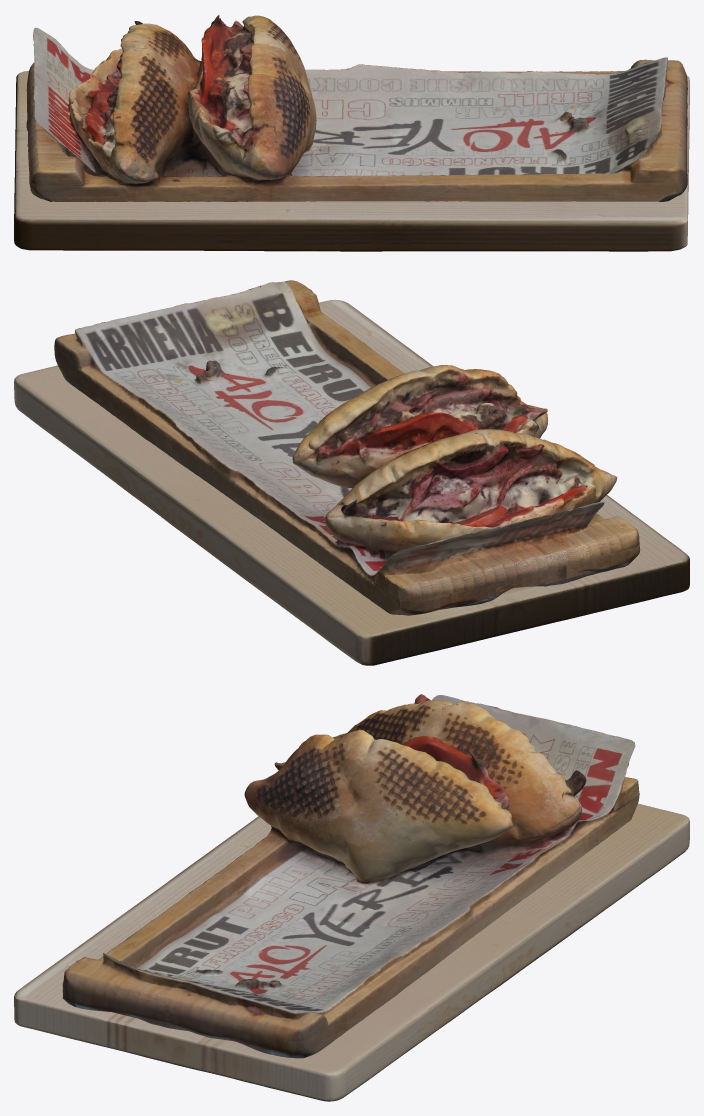
Rendered from sandvich.goje.glb.
The picture shows the model from 3 angles, top to bottom: view 1: azimuth 30°, elevation 25°; view 2: azimuth 150°, elevation 25°; view 3: azimuth 270°, elevation 25°; orthographic projection. The views are drawn at different scales.
Parts seen in each view (by area): view 1: /Root/Scenes/Scene/Object_37/Object_38/Submesh_0, /Root/Scenes/Scene/Object_37/Object_39/Object_40/Submesh_0; view 2: /Root/Scenes/Scene/Object_37/Object_38/Submesh_0, /Root/Scenes/Scene/Object_37/Object_39/Object_40/Submesh_0; view 3: /Root/Scenes/Scene/Object_37/Object_38/Submesh_0, /Root/Scenes/Scene/Object_37/Object_39/Object_40/Submesh_0.
Boxes of the visible parts, box(x1,y1,x2,y2) form: /Root/Scenes/Scene/Object_37/Object_38/Submesh_0: box(26, 15, 687, 201); /Root/Scenes/Scene/Object_37/Object_39/Object_40/Submesh_0: box(14, 71, 689, 251); /Root/Scenes/Scene/Object_37/Object_38/Submesh_0: box(54, 280, 640, 615); /Root/Scenes/Scene/Object_37/Object_39/Object_40/Submesh_0: box(14, 299, 689, 665); /Root/Scenes/Scene/Object_37/Object_38/Submesh_0: box(62, 694, 639, 1058); /Root/Scenes/Scene/Object_37/Object_39/Object_40/Submesh_0: box(14, 803, 689, 1101).
Bounding box in the file's own units: 0.405 × 0.0894 × 0.3442.
Materials: 2 (2 with a texture image).
